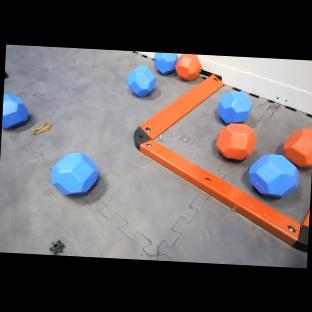V5_BLUE: (248, 153, 298, 197), (50, 153, 97, 192), (217, 91, 252, 123), (1, 94, 27, 128), (127, 65, 155, 96), (154, 53, 177, 74)
V5_RED: (215, 120, 255, 160), (284, 128, 312, 167), (175, 53, 201, 80), (218, 111, 229, 119)
